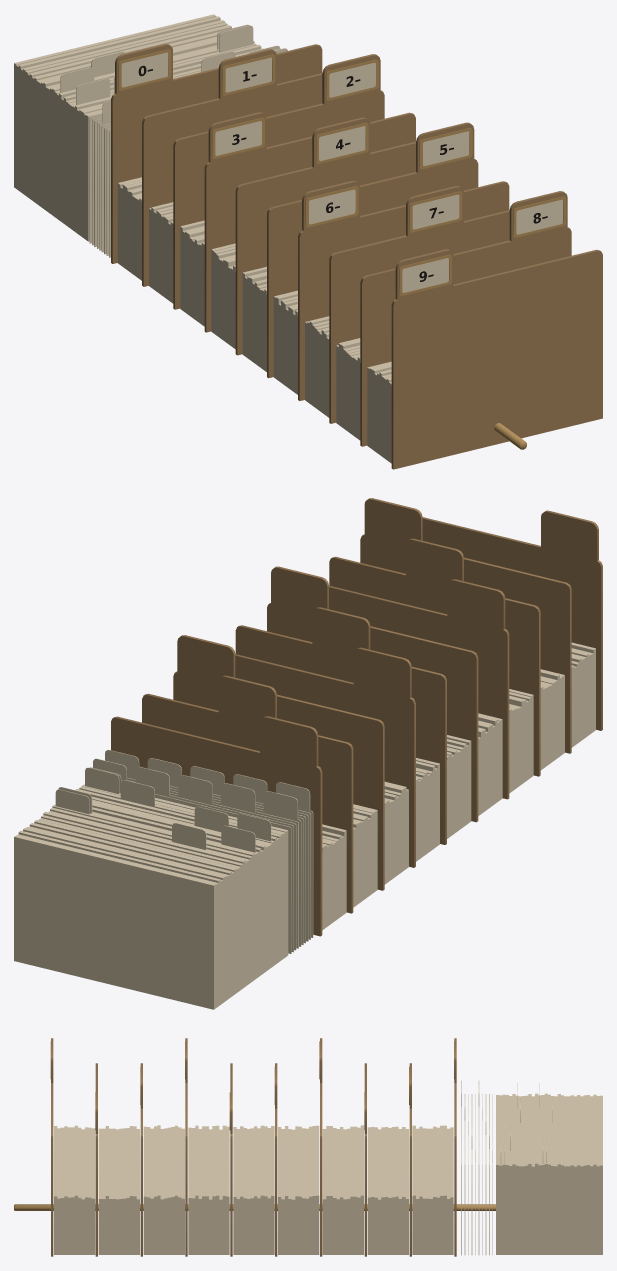
Rendered from catalogue_tray.glb.
The picture shows the model from 3 angles, top to bottom: view 1: azimuth 30°, elevation 25°; view 2: azimuth 150°, elevation 25°; view 3: azimuth 270°, elevation 25°; orthographic projection. The views are drawn at different scales.
Parts seen in each view (by area): view 1: cards_filler, IA_divider_9, IA_divider_7, IA_divider_1, IA_divider_4, IA_divider_8, IA_divider_3, IA_divider_6, IA_divider_0, IA_divider_2, IA_divider_5; view 2: cards_filler, IA_divider_0, IA_divider_6, IA_divider_3, IA_divider_9, IA_divider_7, IA_divider_1, IA_divider_4, IA_divider_2, IA_divider_5, IA_divider_8, IA_card_7 (+9 smaller); view 3: cards_filler, IA_divider_3, IA_divider_9, tray_rod, IA_divider_0, IA_divider_6, IA_divider_4, IA_divider_5, IA_divider_1, IA_divider_2, IA_divider_7, IA_divider_8 (+4 smaller).
Part boxes in pixels (bbox=[...]): cards_filler: bbox=[14, 14, 391, 463]; IA_divider_9: bbox=[391, 249, 602, 469]; IA_divider_7: bbox=[329, 186, 509, 423]; IA_divider_1: bbox=[142, 49, 322, 286]; IA_divider_4: bbox=[235, 117, 415, 355]; IA_divider_8: bbox=[360, 191, 571, 446]; IA_divider_3: bbox=[204, 112, 415, 332]; IA_divider_6: bbox=[298, 181, 509, 400]; IA_divider_0: bbox=[111, 44, 322, 263]; IA_divider_2: bbox=[173, 54, 384, 309]; IA_divider_5: bbox=[267, 122, 478, 378]; cards_filler: bbox=[14, 642, 595, 1009]; IA_divider_0: bbox=[111, 716, 322, 936]; IA_divider_6: bbox=[329, 579, 509, 799]; IA_divider_3: bbox=[235, 647, 415, 867]; IA_divider_9: bbox=[422, 510, 602, 730]; IA_divider_7: bbox=[329, 538, 540, 776]; IA_divider_1: bbox=[142, 675, 353, 913]; IA_divider_4: bbox=[235, 607, 446, 844]; IA_divider_2: bbox=[173, 635, 384, 890]; IA_divider_5: bbox=[267, 566, 478, 822]; IA_divider_8: bbox=[360, 498, 571, 753]; IA_card_7: bbox=[170, 775, 296, 950]; cards_filler: bbox=[54, 1083, 602, 1254]; IA_divider_3: bbox=[319, 1038, 322, 1256]; IA_divider_9: bbox=[50, 1038, 53, 1256]; tray_rod: bbox=[14, 1204, 495, 1210]; IA_divider_0: bbox=[454, 1038, 456, 1256]; IA_divider_6: bbox=[185, 1038, 187, 1256]; IA_divider_4: bbox=[274, 1063, 277, 1256]; IA_divider_5: bbox=[229, 1063, 232, 1256]; IA_divider_1: bbox=[409, 1063, 411, 1256]; IA_divider_2: bbox=[364, 1063, 366, 1256]; IA_divider_7: bbox=[140, 1063, 142, 1256]; IA_divider_8: bbox=[95, 1063, 97, 1256].
Bounding box in the file's own units: 0.13 × 0.122 × 0.4402.
